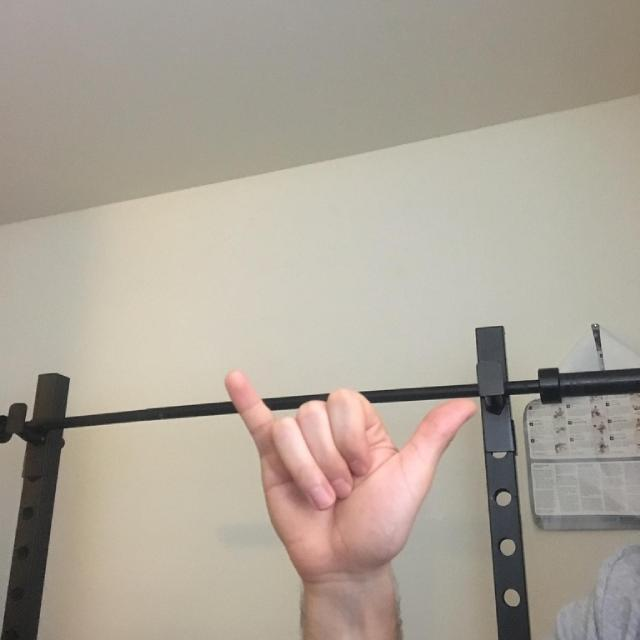Y: (194, 317, 504, 602)
